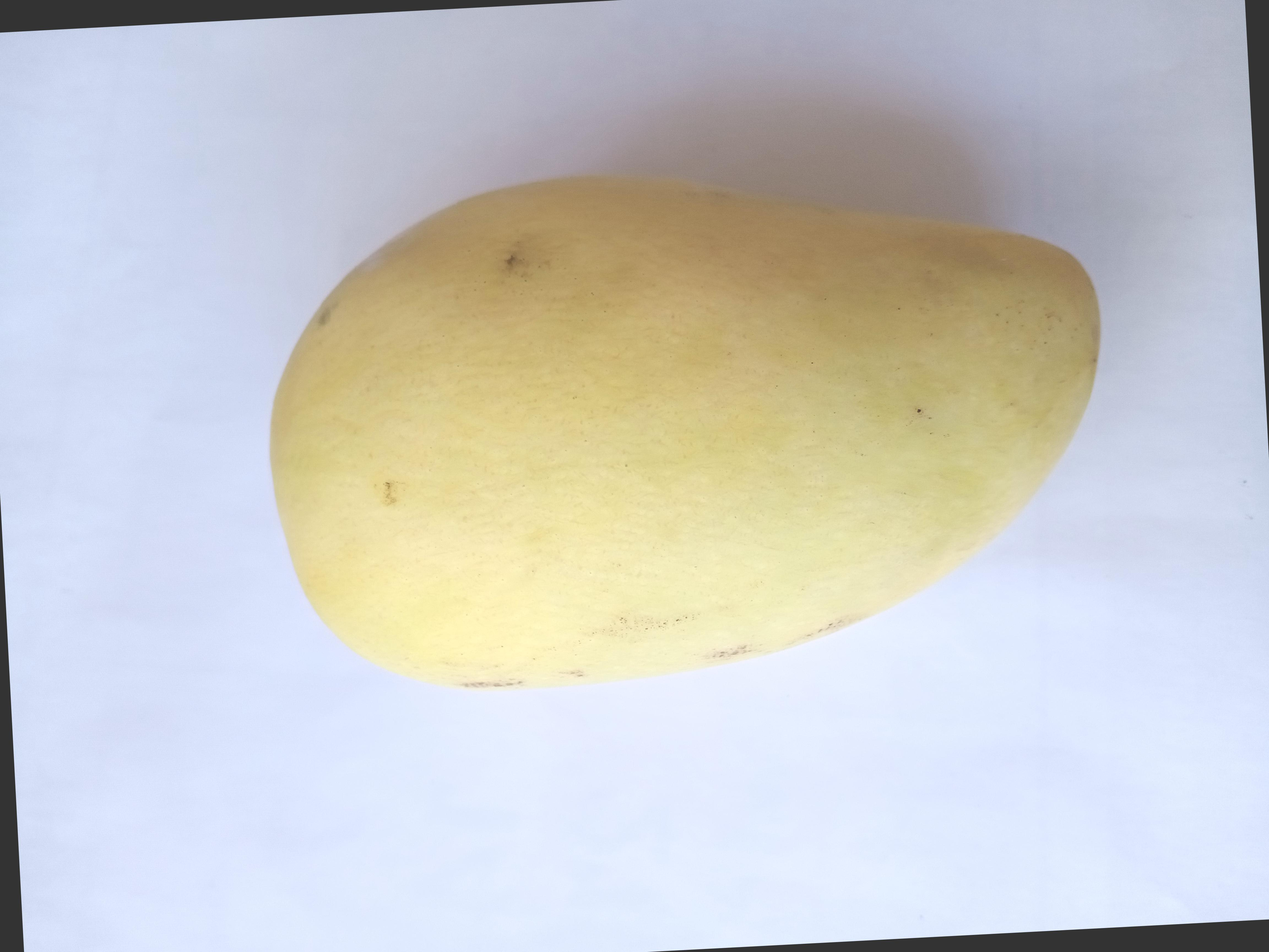Mango Ripe: (154, 145, 1142, 800)
